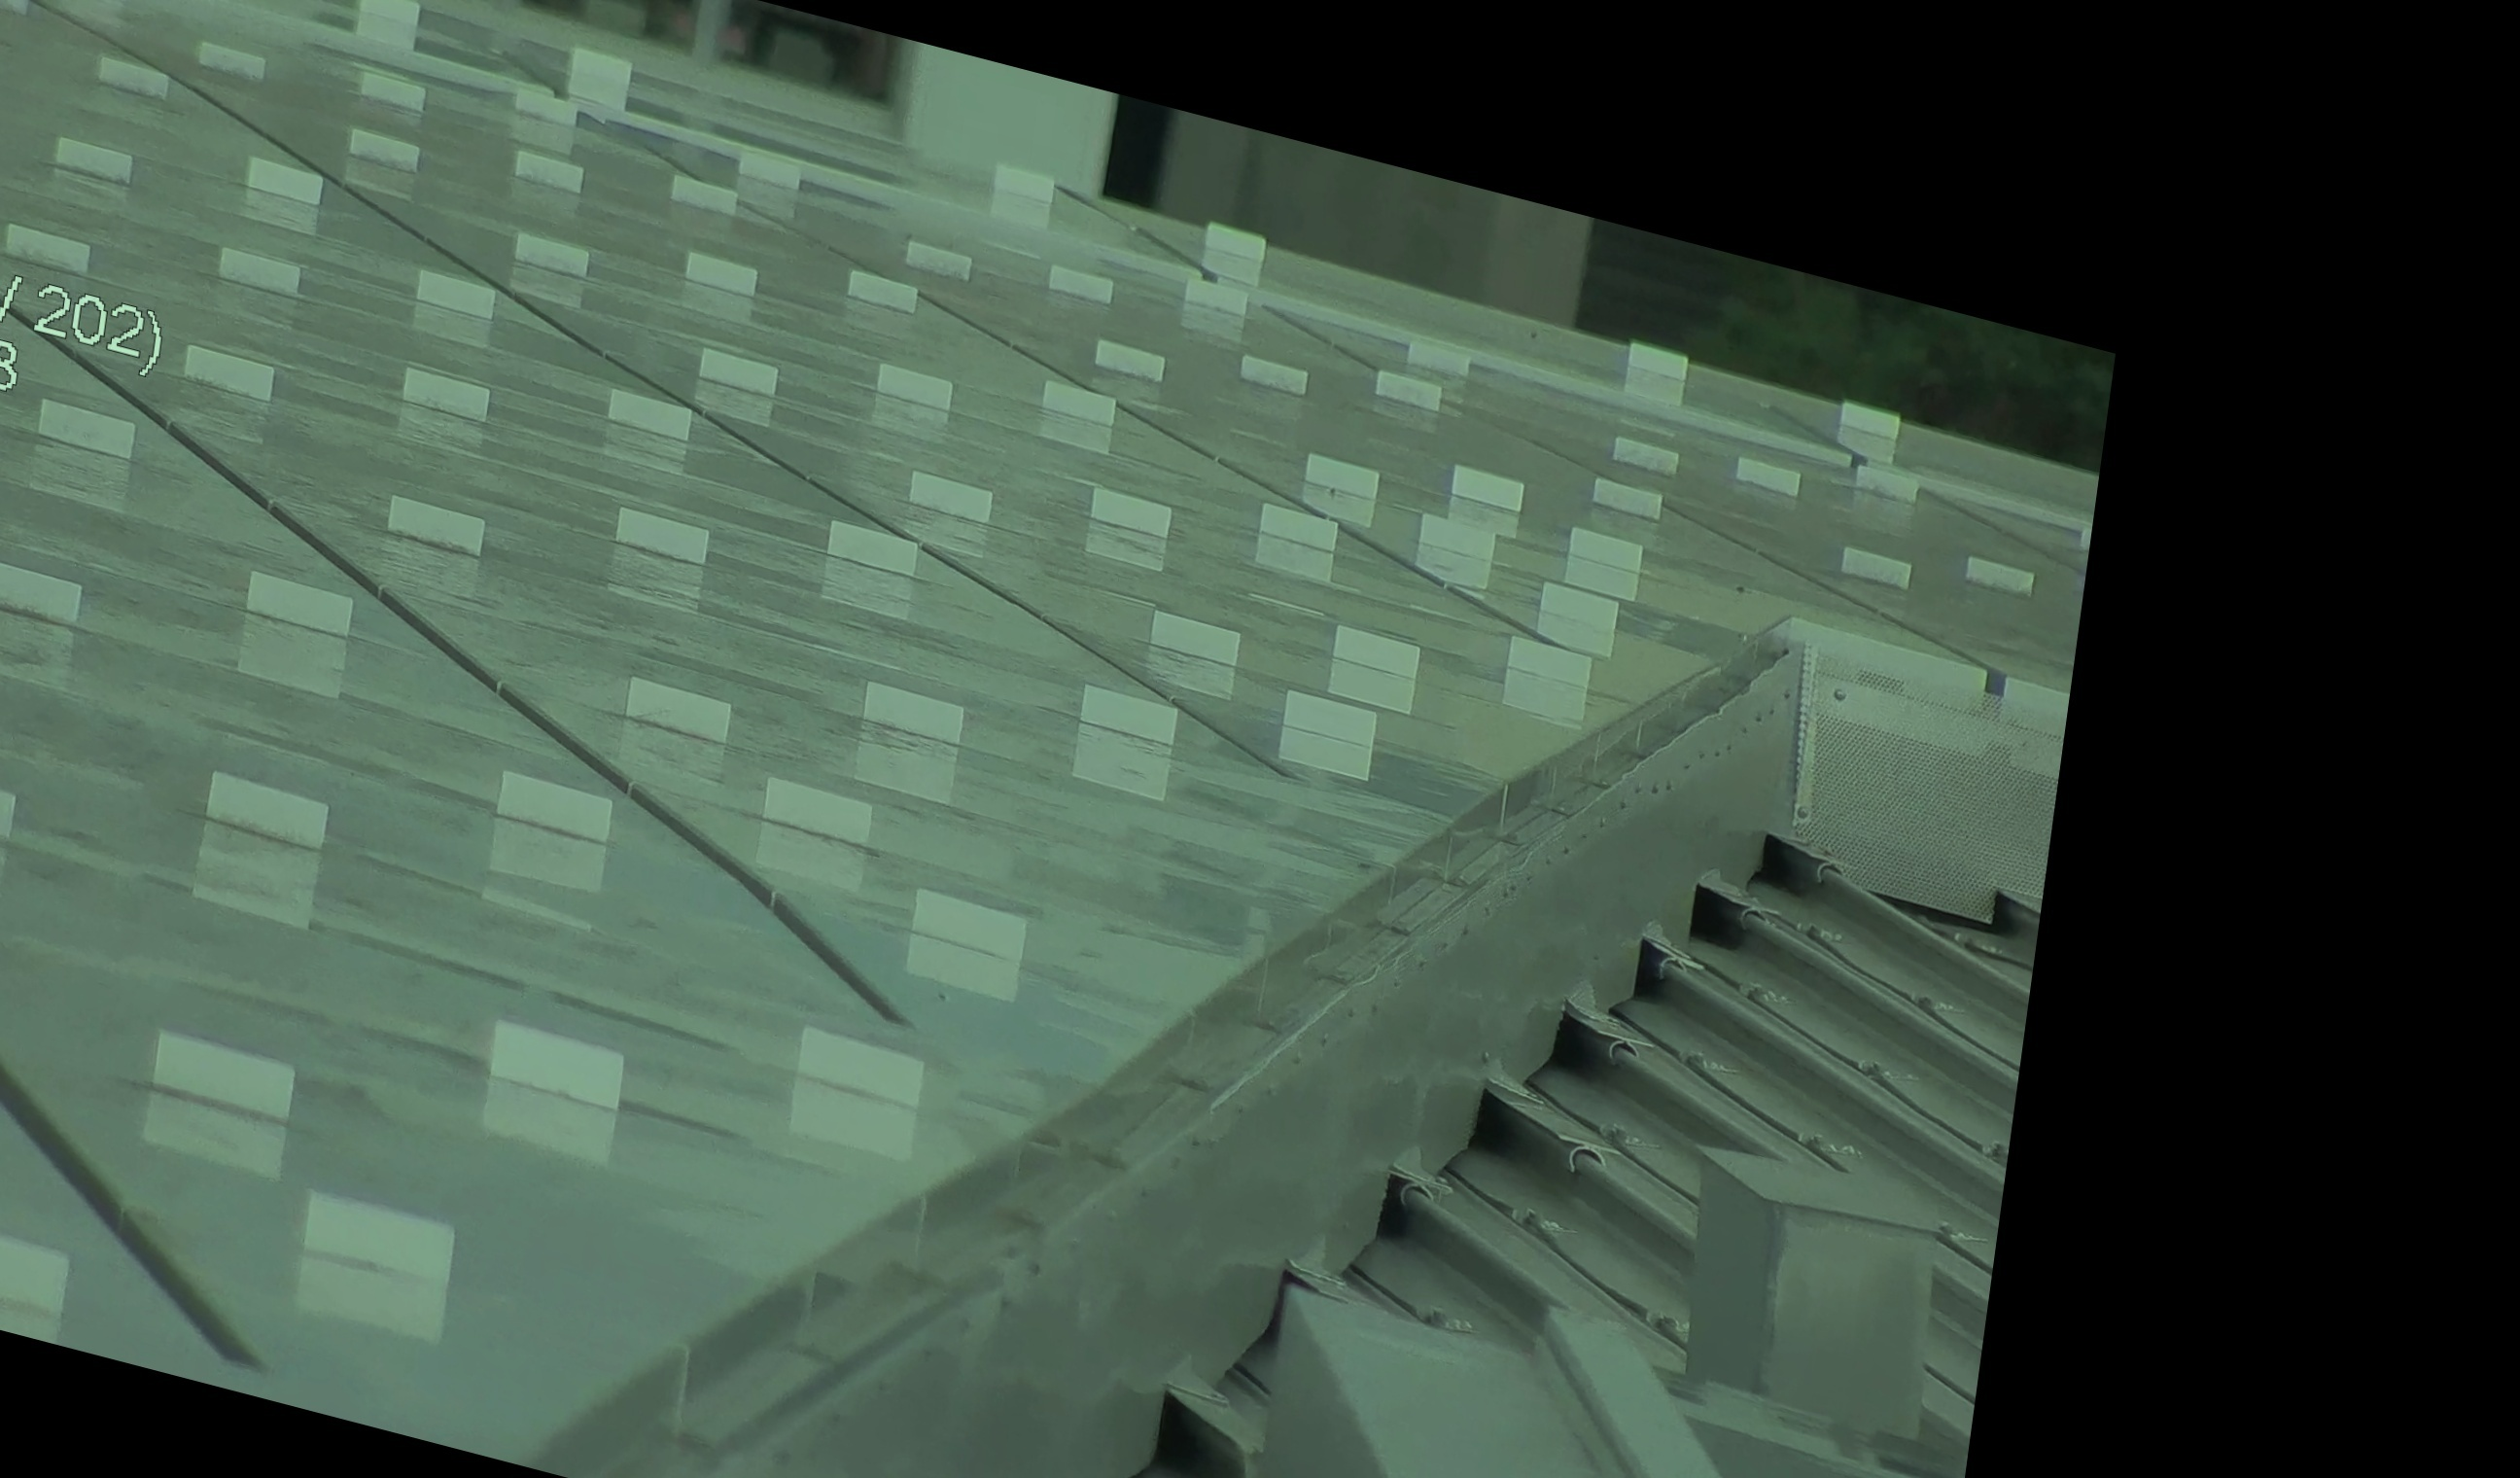Other: (964, 1473, 1125, 1478)
